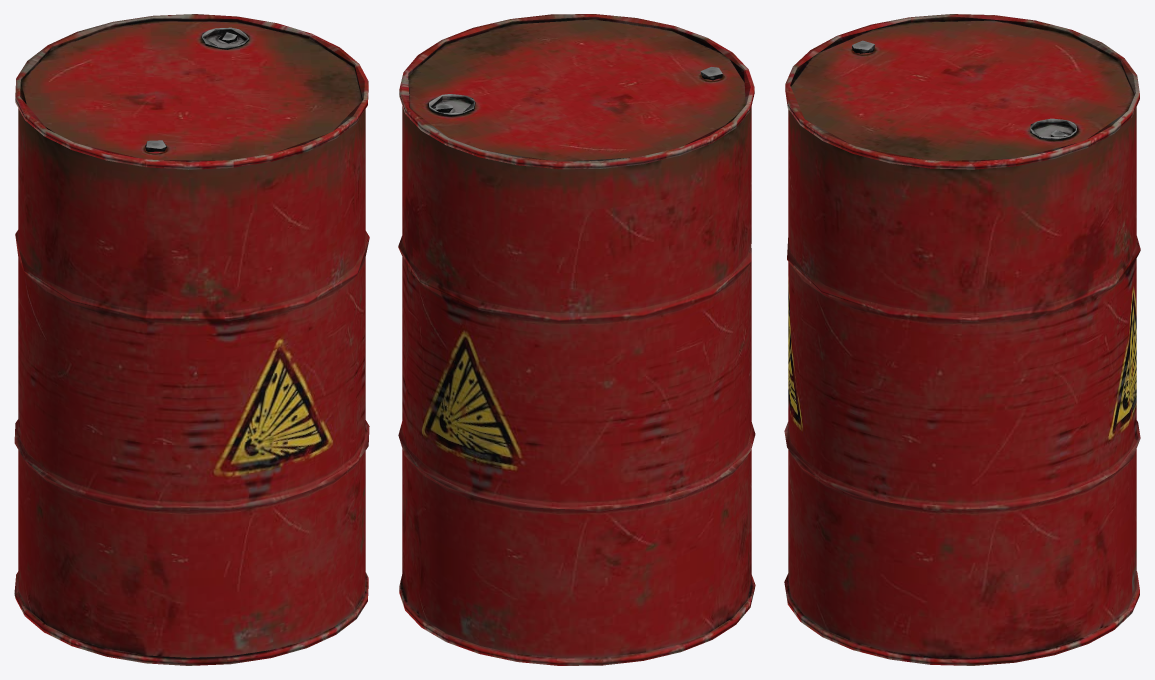
Rendered from Barrel_01.slim.glb.
3 renders of one model, left to right at view 1: azimuth 30°, elevation 25°; view 2: azimuth 150°, elevation 25°; view 3: azimuth 270°, elevation 25°, orthographic.
Bounding box in the file's own units: 0.5628 × 0.8789 × 0.5628.
1 material, 1 textured.
